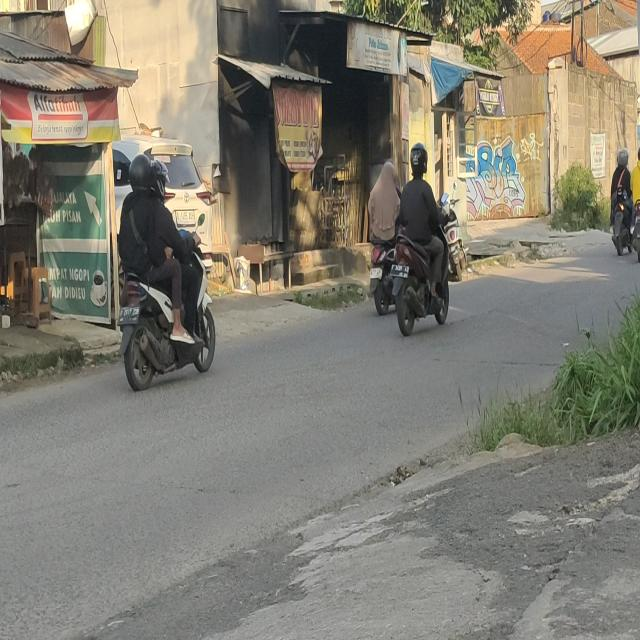helmet: (130, 154, 152, 194), (152, 160, 169, 199), (411, 142, 429, 177), (617, 149, 629, 167)
no-helmet: (381, 163, 396, 189)
